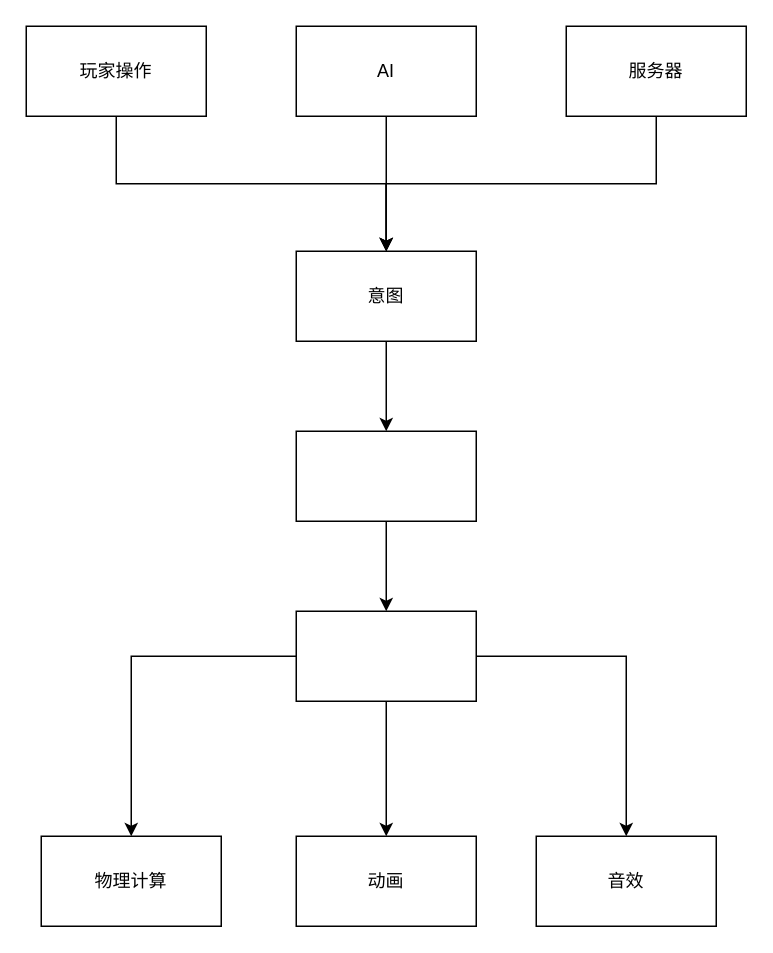
Image size: 773x953. Some labels were removed from this diagram. Here are the shapes that lost their labels. From the top down, the centre of each, then its label:
At pixel 385 475: "状态机".
At pixel 385 655: "某状态".
